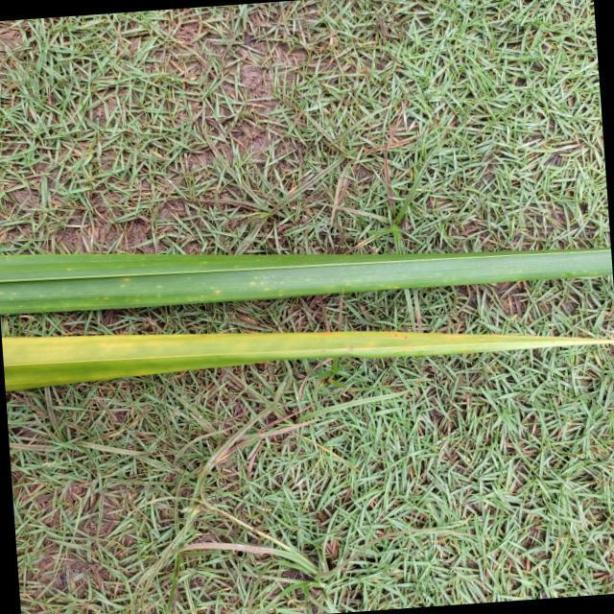nitrogen: (0, 238, 614, 317), (3, 327, 614, 388)
